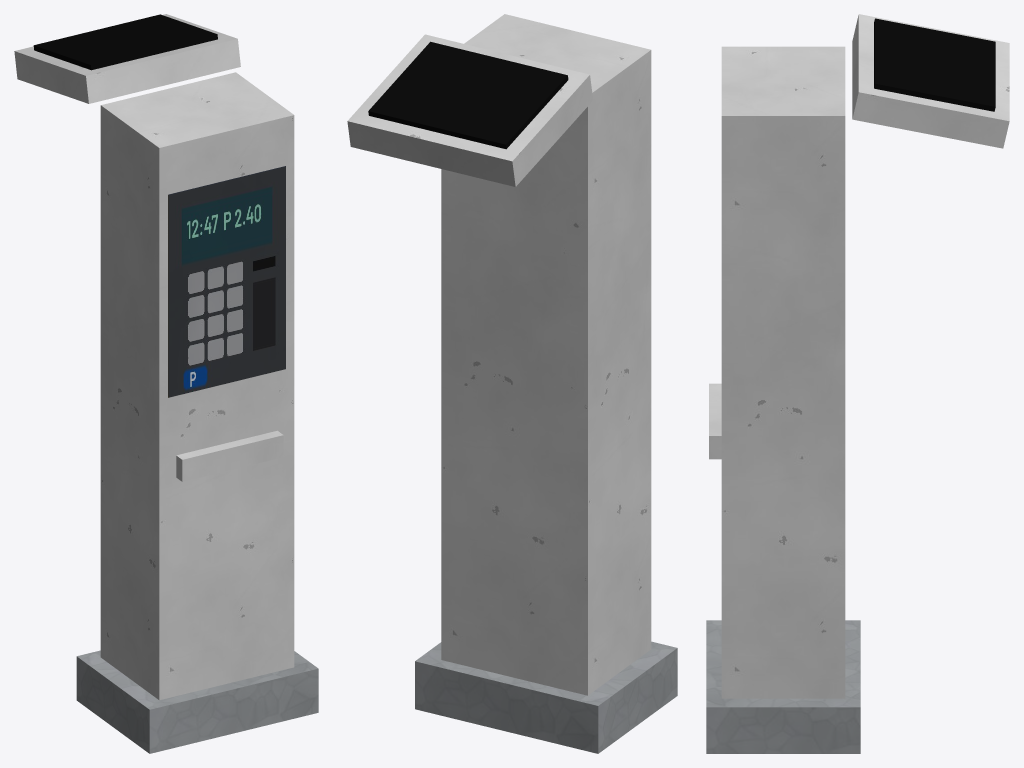
Rendered from ParkingMeter.obj.
3 renders of one model, left to right at view 1: azimuth 30°, elevation 25°; view 2: azimuth 150°, elevation 25°; view 3: azimuth 270°, elevation 25°, orthographic. The views are drawn at different scales.
Visible parts, largest first — view 1: PaintAnthracite, Signs, Galvanised, Void, PaintBlack; view 2: PaintAnthracite, Galvanised, Void; view 3: PaintAnthracite, Galvanised, Void, PaintBlack.
Part boxes in pixels (bbox=[...]): PaintAnthracite: bbox=[14, 14, 294, 700]; Signs: bbox=[168, 166, 285, 397]; Galvanised: bbox=[76, 650, 318, 753]; Void: bbox=[33, 14, 217, 70]; PaintBlack: bbox=[176, 430, 283, 481]; PaintAnthracite: bbox=[347, 14, 651, 695]; Galvanised: bbox=[415, 641, 677, 753]; Void: bbox=[368, 41, 568, 149]; PaintAnthracite: bbox=[721, 14, 1009, 698]; Galvanised: bbox=[706, 620, 860, 753]; Void: bbox=[874, 18, 995, 111]; PaintBlack: bbox=[709, 383, 721, 459].
Bounding box in the file's own units: 0.4 × 1.41 × 0.5899.
5 materials, 4 textured.
